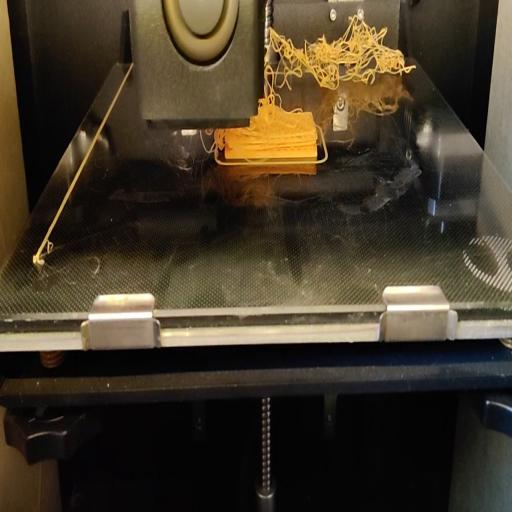spaghetti: (263, 20, 420, 85), (256, 84, 297, 130)
